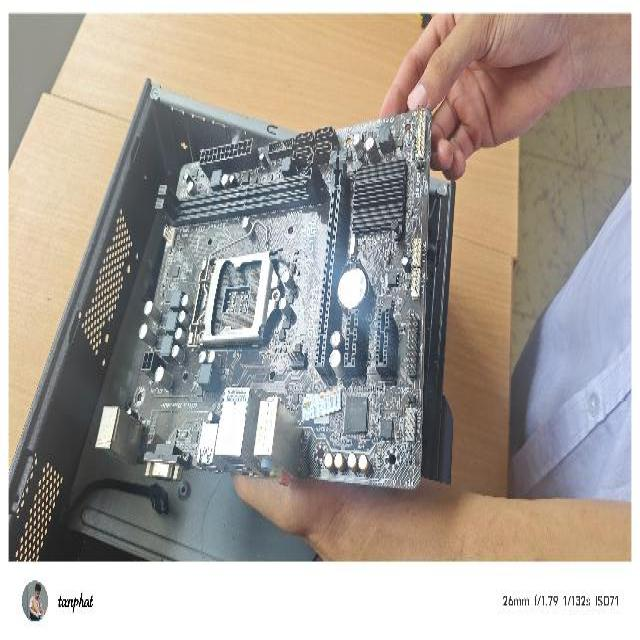Mainboard: (95, 105, 432, 493)
